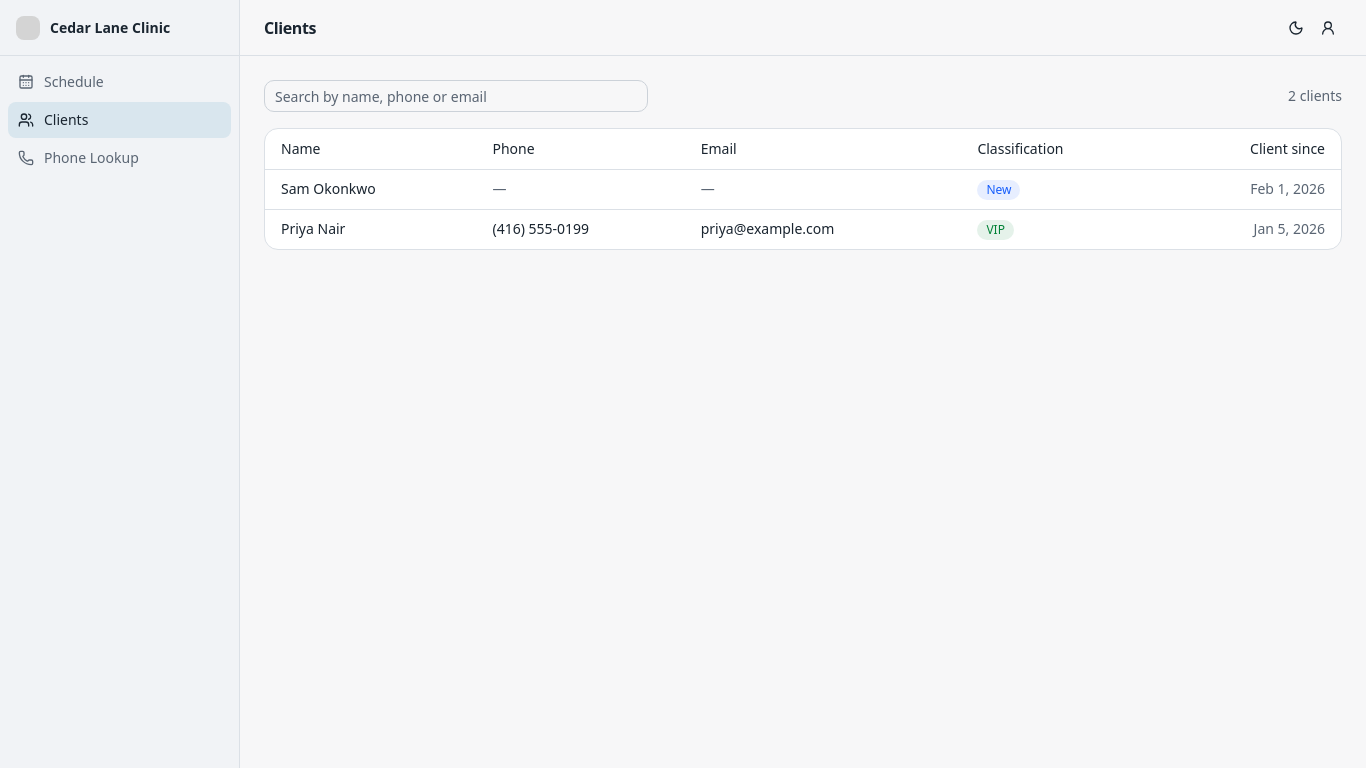
typing in the search box narrows the list through q
expect the link "Sam Okonkwo" is shown: met, box [281,179,376,198]
Type "nai" into the search field named "Search clients" at point(456, 96), box [264,80,648,112]
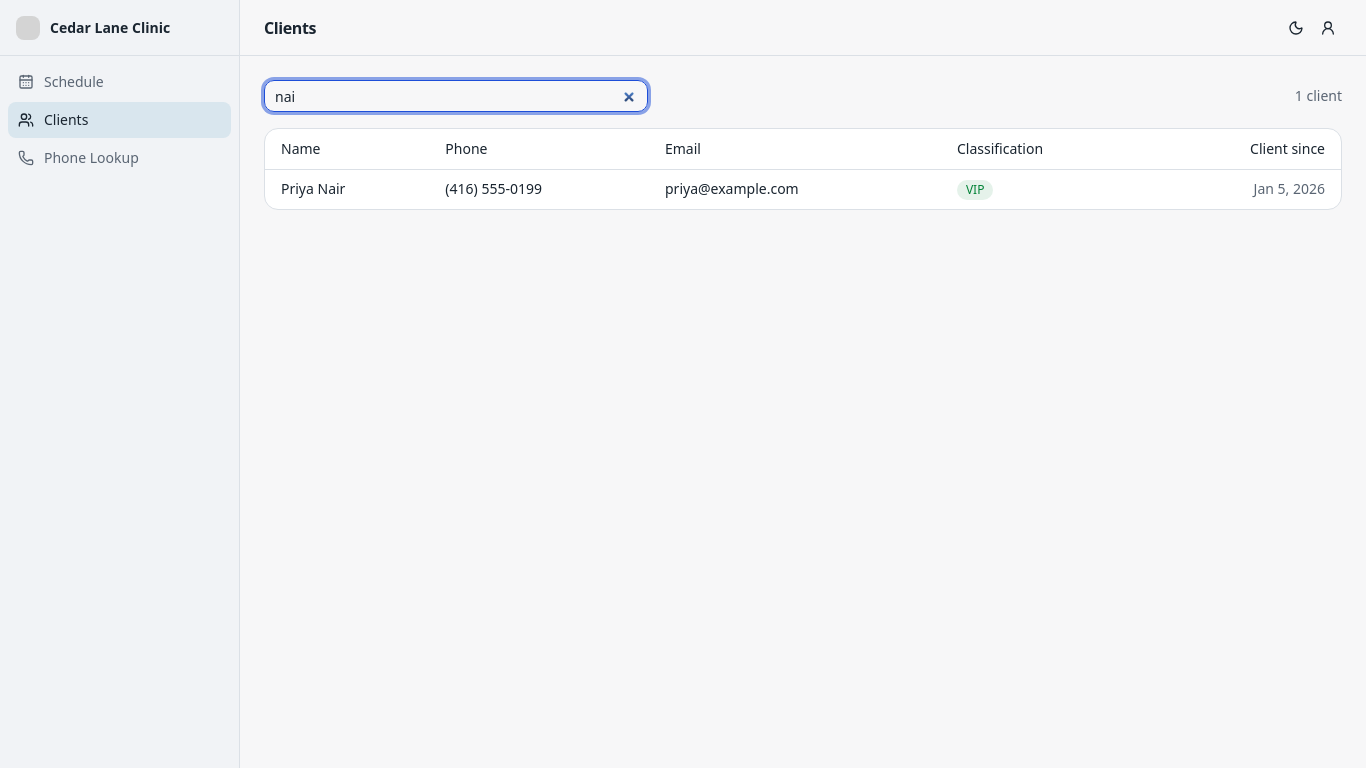
expect the link "Priya Nair" is shown: met, box [281,179,345,198]
expect the link "Sam Okonkwo" is gone: met
